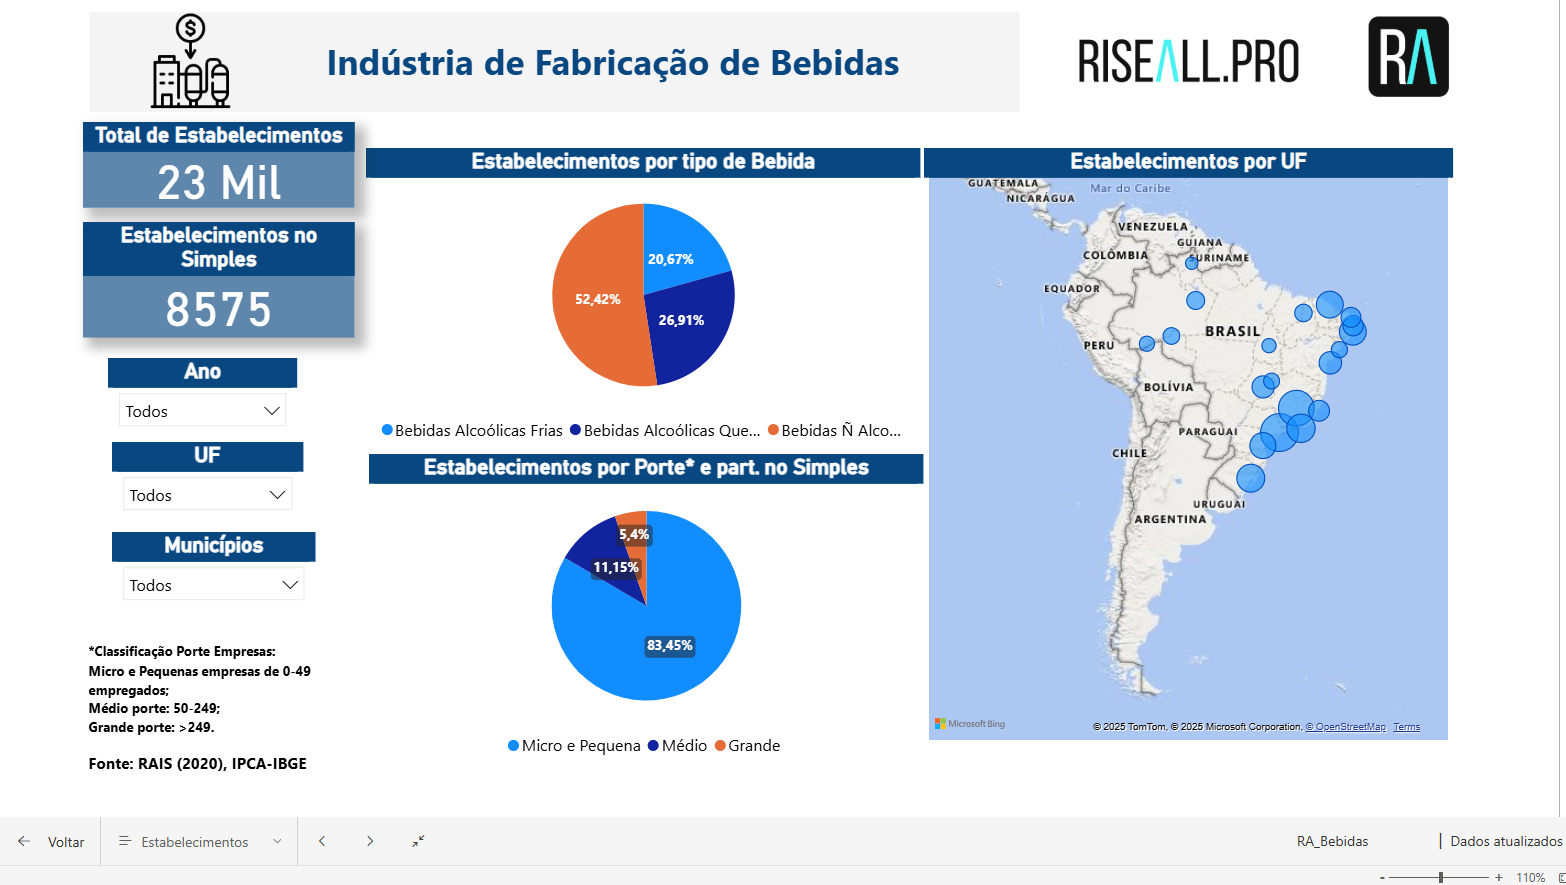

Layout of this report page (visuals, bound fields, positions):
{"tool":"powerbi","page":{"name":"Estabelecimentos","canvas":[1280,720],"ordinal":1},"visuals":[{"type":"textbox","box":[15.8,11.5,846.5,90.5],"z":0},{"type":"slicer","title":"Ano","fields":{"Values":["RAIS_Estabelecimentos.Ano*.Variation.Hierarquia de datas.Ano"]},"box":[33.1,326.2,172.5,76.2],"z":2000},{"type":"map","title":"Estabelecimentos por UF","fields":{"Size":["Sum(RAIS_Estabelecimentos.estab_total)"],"Category":["RAIS_Estabelecimentos.UF"]},"box":[774.6,135.1,481.4,543.2],"z":3000},{"type":"pieChart","title":"Estabelecimentos por tipo de Bebida","fields":{"Y":["Sum(RAIS_Estabelecimentos.estab_cerveja)","Sum(RAIS_Estabelecimentos.estab_destilados)","RAIS_Estabelecimentos.estab_Bebidas_N_Alcoólicas"]},"box":[267.3,135.1,504.4,275.9],"z":4000},{"type":"pieChart","title":"Estabelecimentos por Porte* e part. no Simples","fields":{"Y":["Sum(RAIS_Estabelecimentos.micro_epp)","Sum(RAIS_Estabelecimentos.medio)","Sum(RAIS_Estabelecimentos.grande)"]},"box":[270.2,413.9,504.4,284.6],"z":5000},{"type":"card","title":"Total de Estabelecimentos","fields":{"Values":["Sum(RAIS_Estabelecimentos.estab_total)"]},"box":[10.1,112.1,247.2,77.6],"z":6000},{"type":"slicer","title":"UF","fields":{"Values":["RAIS_Estabelecimentos.UF"]},"box":[35.9,402.4,173.9,81.9],"z":7000},{"type":"slicer","title":"Municípios","fields":{"Values":["RAIS_Estabelecimentos.Municípios"]},"box":[35.9,484.3,185.4,71.9],"z":8000},{"type":"textbox","box":[10.1,679.8,218.4,28.7],"z":9000},{"type":"textbox","box":[10.1,576.3,222.8,102],"z":10000},{"type":"image","box":[53.2,8.6,109.2,96.3],"z":11000},{"type":"card","title":"Estabelecimentos no Simples","fields":{"Values":["Sum(RAIS_Estabelecimentos.part_simples)"]},"box":[10.1,202.6,247.2,104.9],"z":12000},{"type":"image","box":[911.1,23.5,208.7,64.5],"z":12001},{"type":"image","box":[1172.6,10.6,84.4,83.3],"z":12002}]}

Visuals, with their boxes on the page's 1280x720 design canvas (x1, y1, x2, y2). These are canvas units, not pixel positions in the 1566x885 screenshot, which may show the page scaled, cropped or inside an application window:
textbox: pyautogui.locateOnScreen(16, 12, 862, 102)
"Ano" slicer: pyautogui.locateOnScreen(33, 326, 206, 402)
"Estabelecimentos por UF" map: pyautogui.locateOnScreen(775, 135, 1256, 678)
"Estabelecimentos por tipo de Bebida" pieChart: pyautogui.locateOnScreen(267, 135, 772, 411)
"Estabelecimentos por Porte* e part. no Simples" pieChart: pyautogui.locateOnScreen(270, 414, 775, 698)
"Total de Estabelecimentos" card: pyautogui.locateOnScreen(10, 112, 257, 190)
"UF" slicer: pyautogui.locateOnScreen(36, 402, 210, 484)
"Municípios" slicer: pyautogui.locateOnScreen(36, 484, 221, 556)
textbox: pyautogui.locateOnScreen(10, 680, 228, 708)
textbox: pyautogui.locateOnScreen(10, 576, 233, 678)
image: pyautogui.locateOnScreen(53, 9, 162, 105)
"Estabelecimentos no Simples" card: pyautogui.locateOnScreen(10, 203, 257, 308)
image: pyautogui.locateOnScreen(911, 24, 1120, 88)
image: pyautogui.locateOnScreen(1173, 11, 1257, 94)
